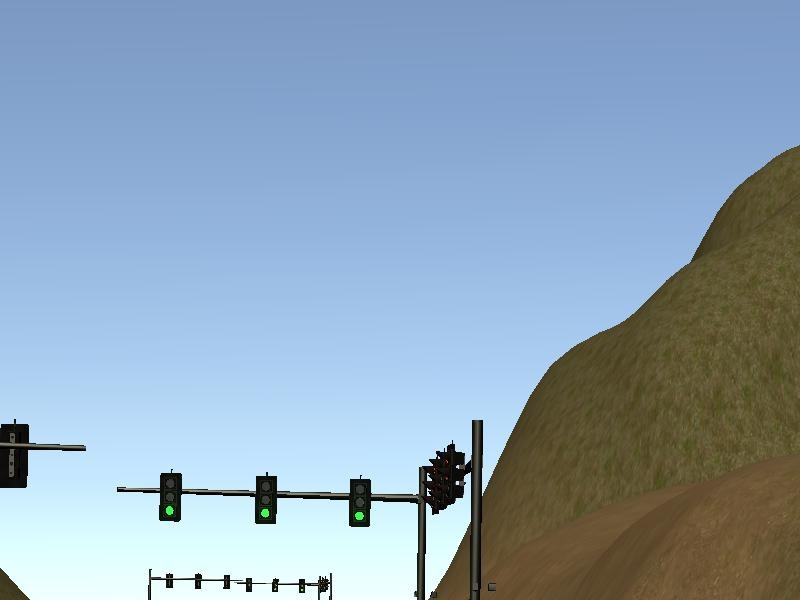green: (255, 474, 280, 526), (348, 479, 372, 529), (160, 471, 182, 523), (271, 578, 280, 593), (299, 580, 306, 594)
